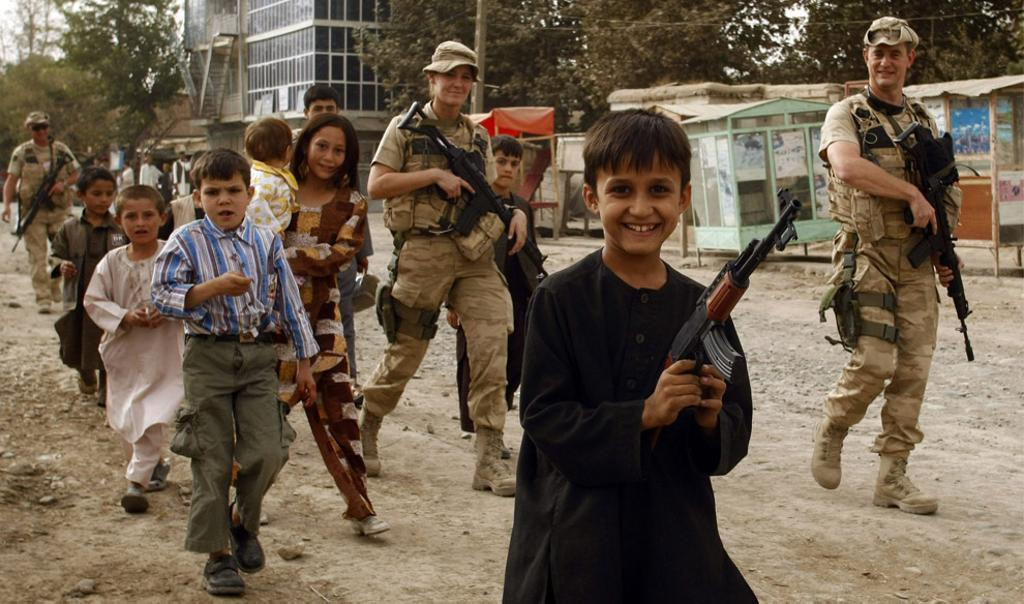face: (598, 152, 683, 256), (200, 173, 249, 230), (867, 34, 908, 87), (308, 125, 347, 180), (121, 199, 161, 245), (436, 62, 474, 106), (84, 176, 115, 215), (493, 147, 521, 187), (308, 99, 339, 132), (32, 122, 49, 141), (181, 153, 186, 160), (145, 155, 150, 162), (164, 165, 168, 172)
